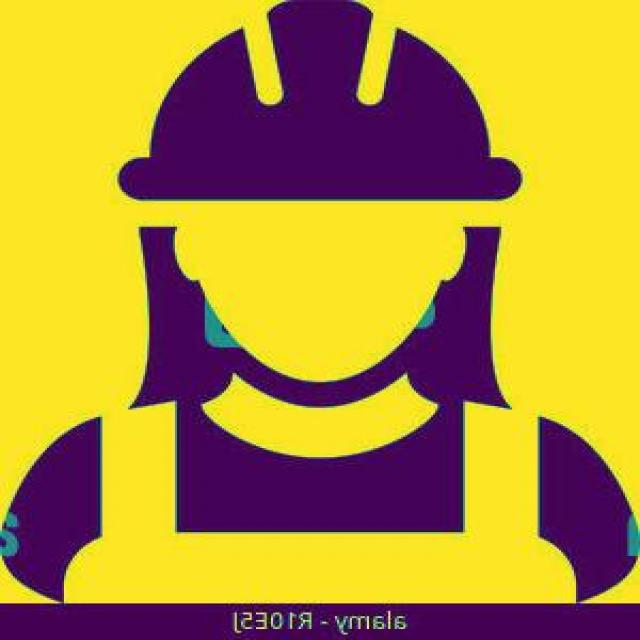Reflective-Jacket: (2, 386, 617, 614)
Safety-Helmet: (107, 6, 536, 210)
